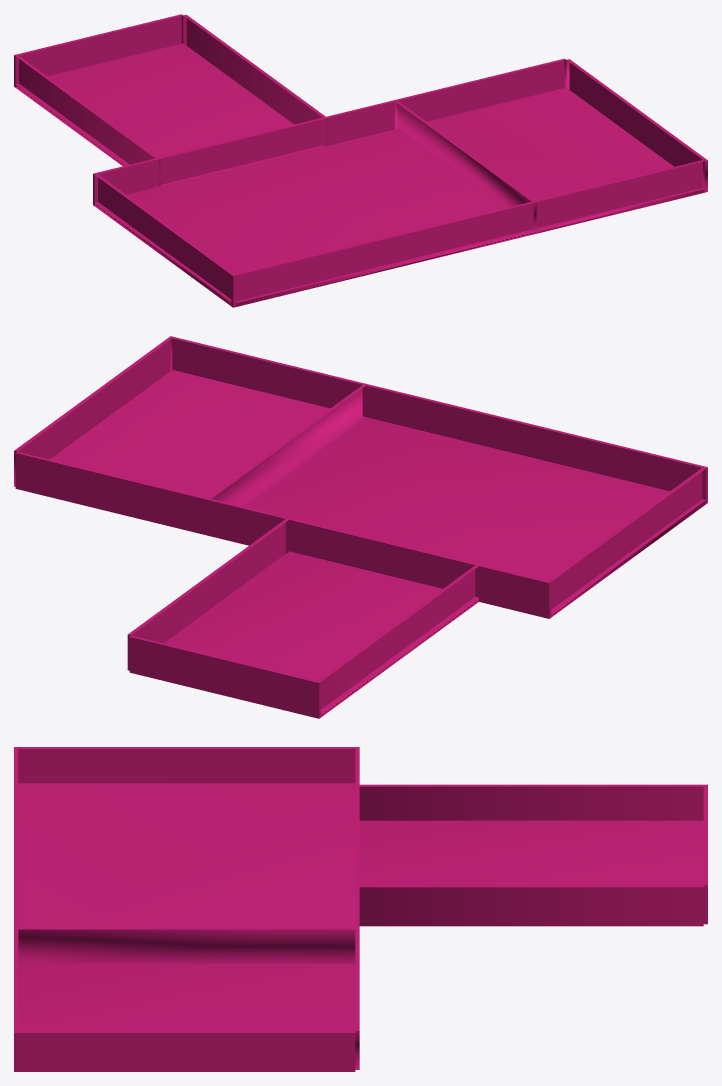
The model's file is separateFloors1426.obj.
The picture shows the model from 3 angles, top to bottom: view 1: azimuth 30°, elevation 25°; view 2: azimuth 150°, elevation 25°; view 3: azimuth 270°, elevation 25°; orthographic projection. The views are drawn at different scales.
Parts seen in each view (by area): view 1: playerRoom, playerRoom.001, playerRoom.002; view 2: playerRoom, playerRoom.001, playerRoom.002; view 3: playerRoom, playerRoom.001, playerRoom.002.
Part boxes in pixels (x1=…): playerRoom: x1=14, y1=14, x2=707, y2=307; playerRoom.001: x1=94, y1=129, x2=533, y2=307; playerRoom.002: x1=15, y1=43, x2=323, y2=187; playerRoom: x1=14, y1=336, x2=707, y2=718; playerRoom.001: x1=244, y1=417, x2=705, y2=617; playerRoom.002: x1=164, y1=551, x2=478, y2=717; playerRoom: x1=14, y1=747, x2=707, y2=1071; playerRoom.001: x1=18, y1=783, x2=355, y2=927; playerRoom.002: x1=359, y1=820, x2=703, y2=885.
Bounding box in the file's own units: 72.14 × 4.59 × 74.05.
